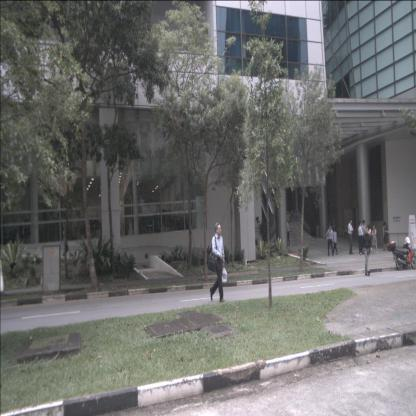human-pedestrian-adult: (209, 222, 227, 303), (360, 227, 371, 276), (326, 226, 334, 257), (348, 219, 354, 254), (361, 220, 367, 253), (331, 228, 338, 256), (372, 225, 378, 254), (382, 223, 388, 252), (358, 222, 363, 256), (366, 224, 372, 252), (63, 230, 68, 263), (382, 222, 388, 249), (287, 219, 290, 247)
vehicle-motorcycle: (387, 237, 415, 272)
